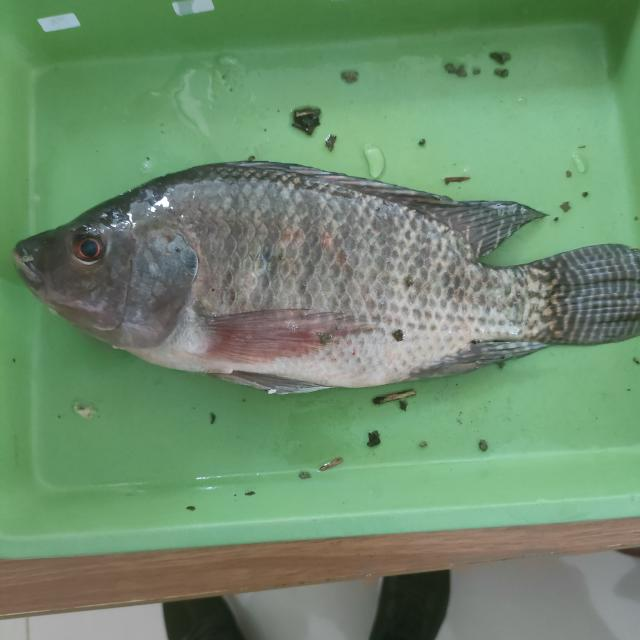Fresh: (124, 170, 457, 380), (68, 225, 114, 268)
